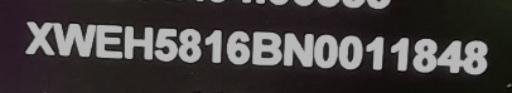letter: (52, 20, 96, 59), (122, 21, 156, 62), (22, 18, 56, 57), (249, 28, 283, 67), (281, 31, 315, 68), (94, 21, 124, 62), (176, 26, 206, 65), (336, 32, 366, 71), (224, 28, 252, 67), (410, 34, 438, 73), (154, 24, 180, 63), (463, 38, 489, 77), (436, 38, 464, 73), (312, 32, 338, 69), (202, 26, 224, 65), (363, 33, 385, 70), (388, 36, 410, 71)
